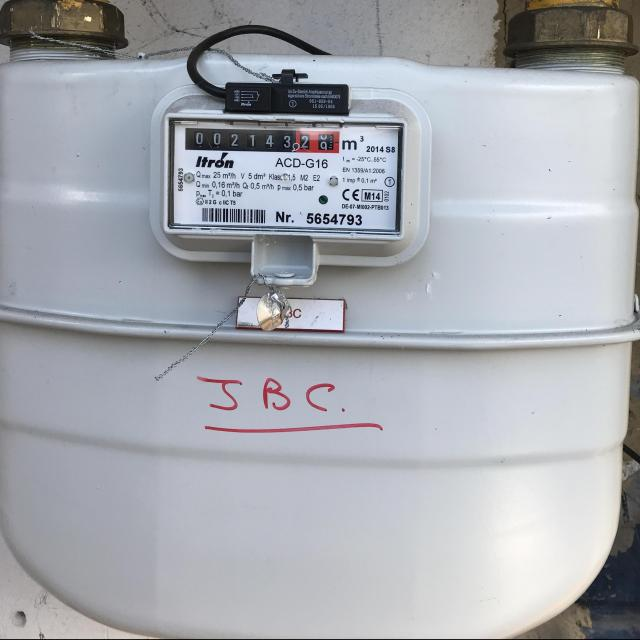gaz_meter: (167, 118, 403, 232)
indication: (186, 129, 340, 154)
